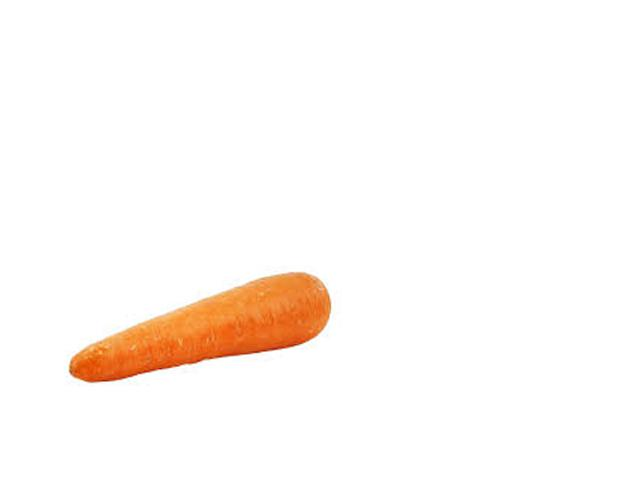carrot: (51, 263, 391, 402)
